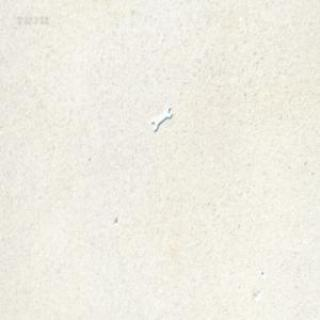Wrenchtrack_idkeyframe: (150, 106, 172, 132)
